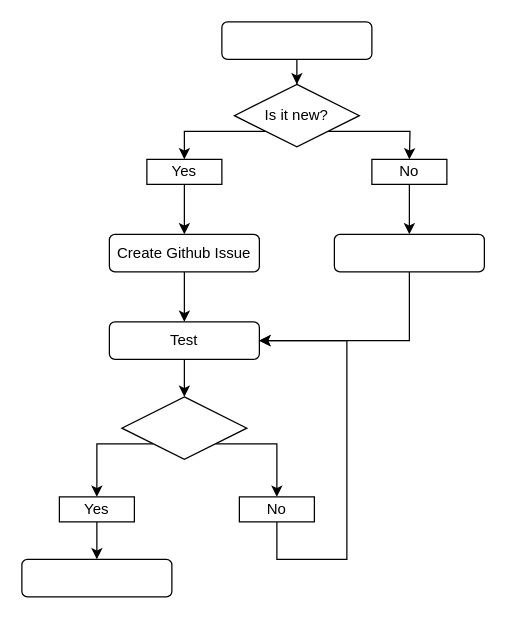
Some shapes in this 506 by 619 pixel diagram are drawn without their labels. The centre of each missing label's shape, as x and y in pixels:
Bug Found: point (296, 40)
Close Issue: point (96, 577)
Is it fixed?: point (184, 427)
Open Existing Github Issue: point (408, 252)
